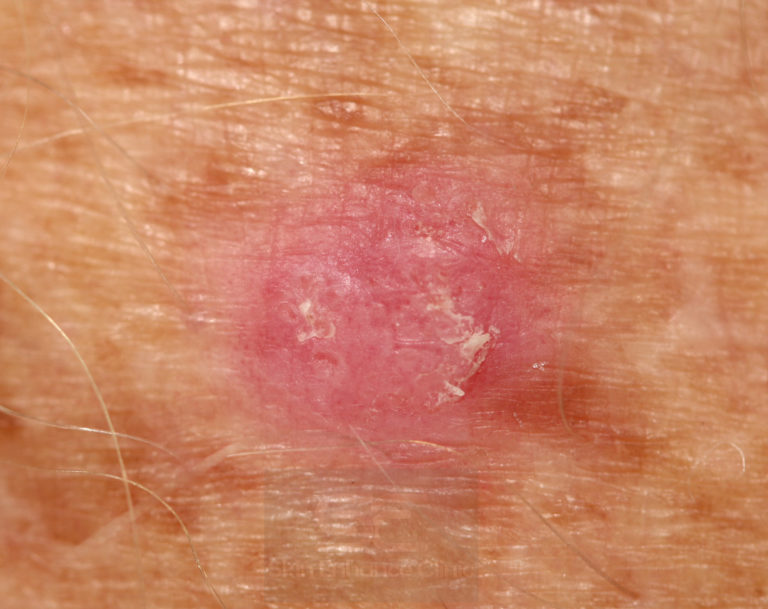Actinic Keratosis: (213, 100, 582, 501)
